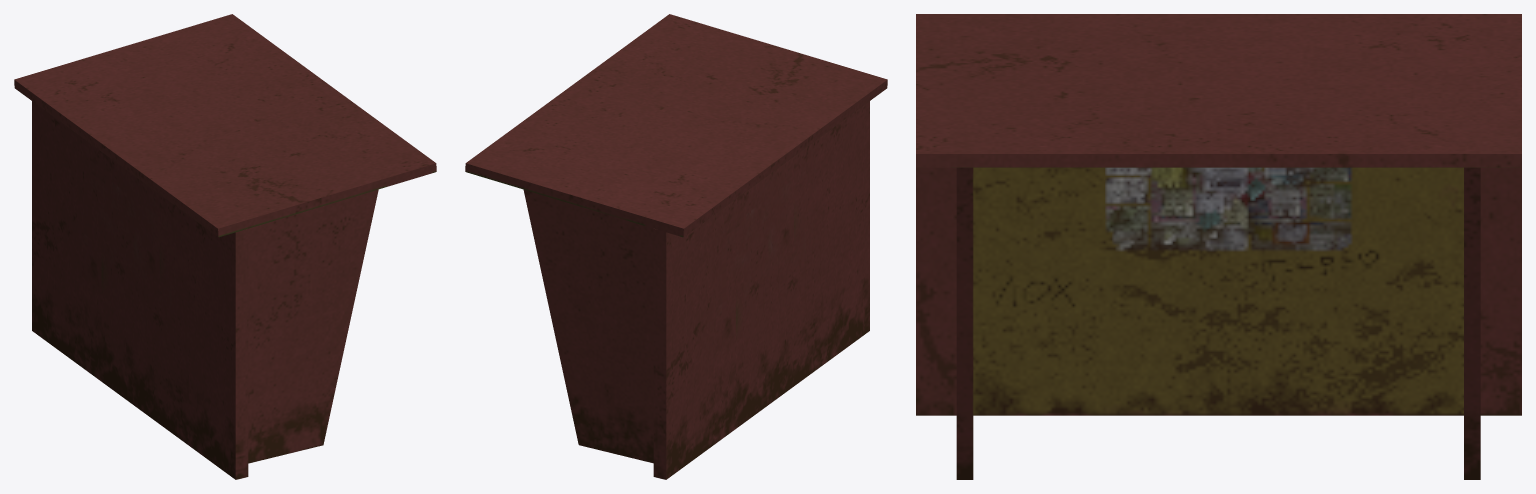
File: Остановка.fbx
The picture shows the model from 3 angles, left to right: view 1: azimuth 30°, elevation 25°; view 2: azimuth 150°, elevation 25°; view 3: azimuth 270°, elevation 25°; orthographic projection. The views are drawn at different scales.
Parts seen in each view (by area): view 1: Остановка.001; view 2: Остановка.001; view 3: Остановка.001.
Part boxes in pixels (left/top/right/bottom): Остановка.001: left=14, top=14, right=436, bottom=479; Остановка.001: left=465, top=14, right=887, bottom=479; Остановка.001: left=916, top=14, right=1521, bottom=479.
Bounding box in the file's own units: 340 × 210 × 246.
